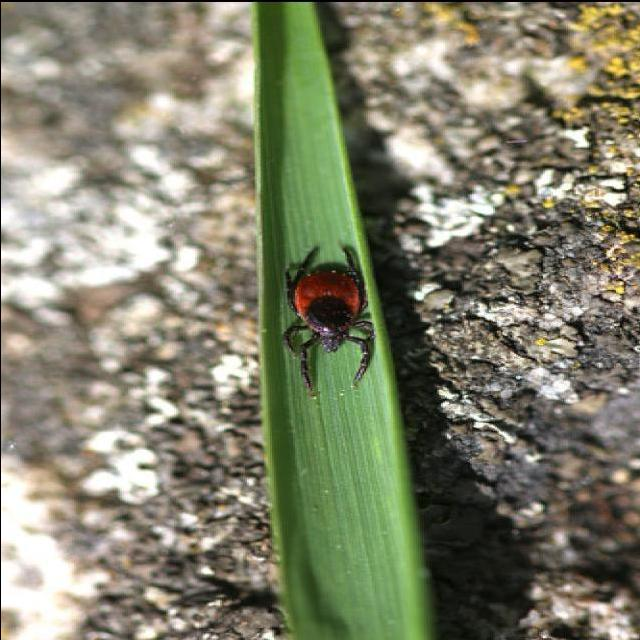Ixodes Ricinus-F: (283, 243, 375, 397)
